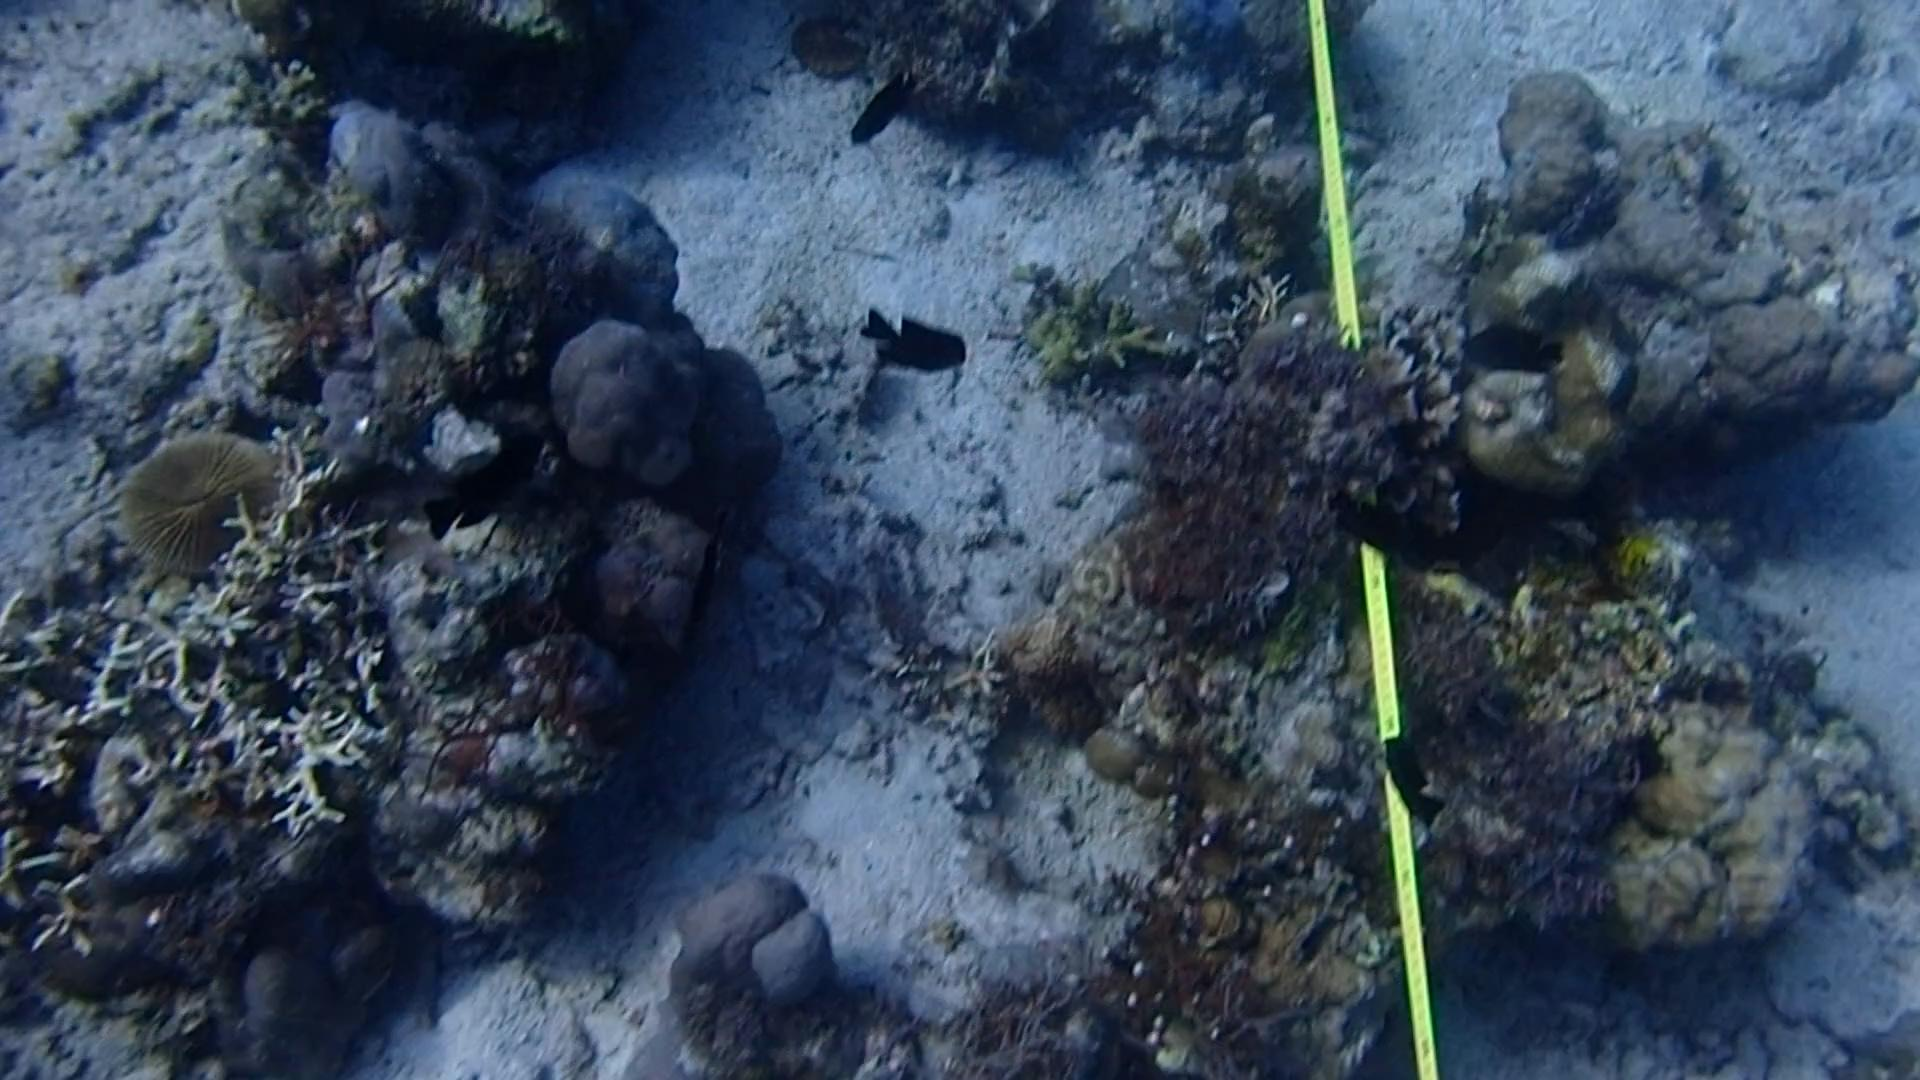Dark Fish: (410, 430, 554, 534), (836, 298, 978, 401), (1333, 485, 1445, 587), (1365, 728, 1449, 844), (1456, 320, 1567, 390), (675, 508, 724, 659), (856, 61, 927, 152)
